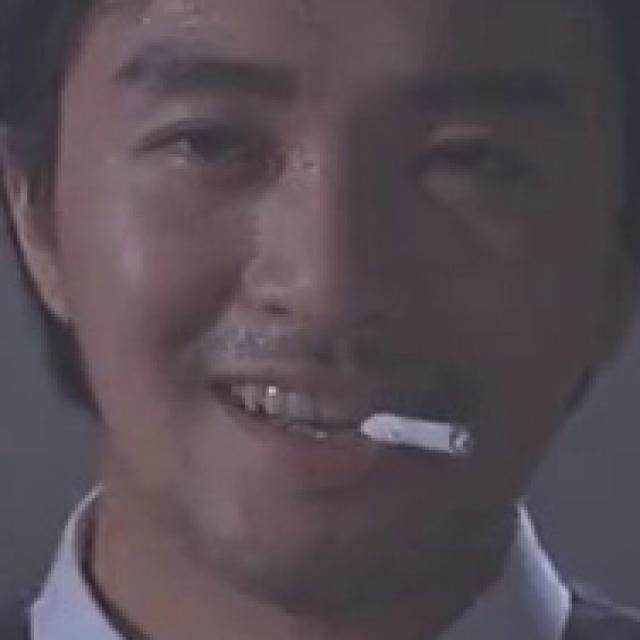smoking: (361, 409, 473, 452)
